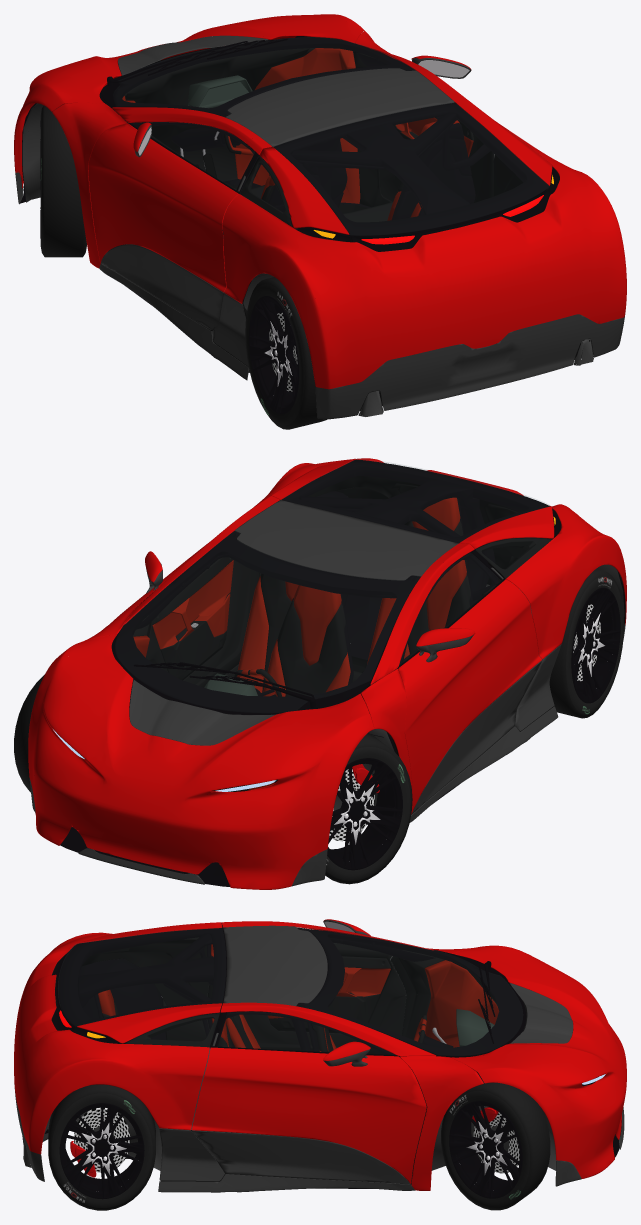
File: cruiser.glb
3 renders of one model, top to bottom at view 1: azimuth 30°, elevation 25°; view 2: azimuth 150°, elevation 25°; view 3: azimuth 270°, elevation 25°, orthographic. The views are drawn at different scales.
Visible parts, largest first — view 1: BodyRearPanelsColor1, BodyPanelsColor2, BodyDoorLColor1, BodyRoofPanel, InteriorRearHatch, BodyHood, BodyPillars, InteriorPillar, InteriorDashMid, WheelFrontL, BodyWindshieldGasket, BodyDoorLColor2 (+17 smaller); view 2: BodyHood, BodyDoorLColor1, BodyRearPanelsColor1, BodyWindshieldGasket, BodyRoofPanel, InteriorSeatsColor1, BodyPillars, InteriorSeatsColor2, WheelFrontLRim, BodyPanelsColor2, InteriorPillar, InteriorRearHatch (+17 smaller); view 3: BodyDoorRColor1, BodyRearPanelsColor1, BodyHood, BodyPillars, BodyRoofPanel, BodyDoorRColor2, BodyPanelsColor2, BodyWindshieldGasket, WheelFrontR, WheelRearRRim, WheelFrontRRim, WheelRearR (+20 smaller).
Part boxes in pixels (left/top/right/bottom): BodyRearPanelsColor1: left=222, top=99, right=626, bottom=389; BodyPanelsColor2: left=15, top=171, right=625, bottom=419; BodyDoorLColor1: left=88, top=123, right=238, bottom=292; BodyRoofPanel: left=225, top=68, right=454, bottom=146; InteriorRearHatch: left=261, top=103, right=549, bottom=242; BodyHood: left=14, top=14, right=364, bottom=188; BodyPillars: left=52, top=30, right=465, bottom=268; InteriorPillar: left=273, top=104, right=469, bottom=215; InteriorDashMid: left=124, top=46, right=314, bottom=181; WheelFrontL: left=40, top=105, right=86, bottom=257; BodyWindshieldGasket: left=99, top=37, right=413, bottom=117; BodyDoorLColor2: left=101, top=244, right=223, bottom=329; BodyHood: left=28, top=634, right=374, bottom=889; BodyDoorLColor1: left=398, top=579, right=541, bottom=814; BodyRearPanelsColor1: left=254, top=458, right=626, bottom=659; BodyWindshieldGasket: left=111, top=532, right=419, bottom=714; BodyRoofPanel: left=234, top=500, right=458, bottom=580; InteriorSeatsColor1: left=237, top=497, right=466, bottom=696; BodyPillars: left=81, top=496, right=474, bottom=793; InteriorSeatsColor2: left=260, top=521, right=470, bottom=696; WheelFrontLRim: left=327, top=758, right=402, bottom=870; BodyPanelsColor2: left=29, top=584, right=625, bottom=886; InteriorPillar: left=232, top=478, right=495, bottom=607; InteriorRearHatch: left=281, top=460, right=552, bottom=550; BodyDoorRColor1: left=192, top=1047, right=426, bottom=1183; BodyRearPanelsColor1: left=14, top=922, right=222, bottom=1154; BodyHood: left=451, top=945, right=626, bottom=1178; BodyPillars: left=220, top=921, right=483, bottom=1190; BodyRoofPanel: left=223, top=925, right=327, bottom=1006; BodyDoorRColor2: left=192, top=1130, right=409, bottom=1184; BodyPanelsColor2: left=14, top=1084, right=624, bottom=1192; BodyWindshieldGasket: left=297, top=928, right=527, bottom=1057; WheelFrontR: left=441, top=1080, right=550, bottom=1210; WheelRearRRim: left=59, top=1103, right=144, bottom=1199; WheelFrontRRim: left=449, top=1101, right=522, bottom=1198; WheelRearR: left=48, top=1084, right=155, bottom=1210.
Bounding box in the file's own units: 2.54 × 1.44 × 4.36.
Materials: 26 (4 with a texture image).
